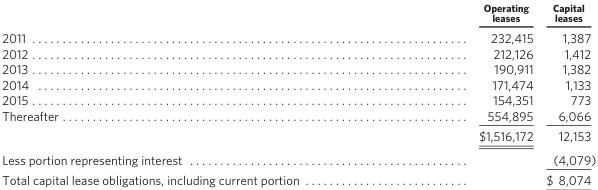table: (1, 1, 595, 186)
table column: (1, 1, 388, 186), (388, 1, 539, 186), (539, 1, 595, 186)
table column header: (1, 1, 595, 26)
table row: (1, 1, 595, 26), (1, 125, 595, 147), (1, 147, 595, 169), (1, 26, 595, 45), (1, 107, 595, 125), (1, 169, 595, 186), (1, 60, 595, 76), (1, 91, 595, 107), (1, 45, 595, 60), (1, 76, 595, 91)
